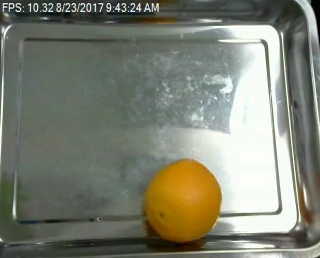Orange: (144, 158, 222, 240)
